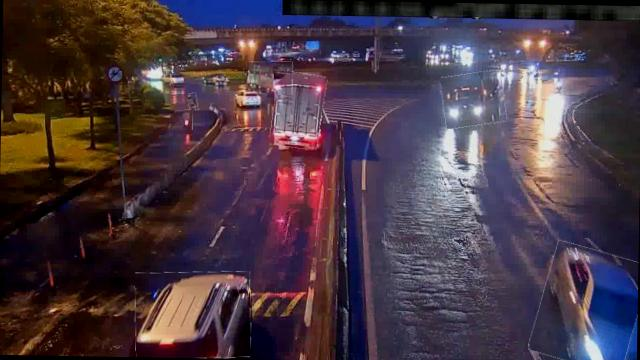Bike: (188, 93, 198, 110), (184, 109, 192, 130)
Car: (533, 244, 638, 360), (134, 270, 252, 358)
Truck: (270, 70, 324, 148), (441, 70, 506, 127), (249, 61, 293, 95)
